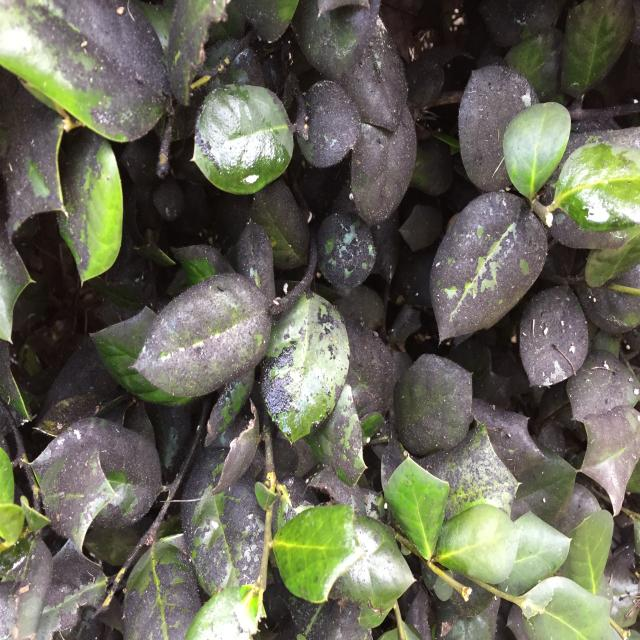Sooty Mold: (1, 1, 638, 638)
